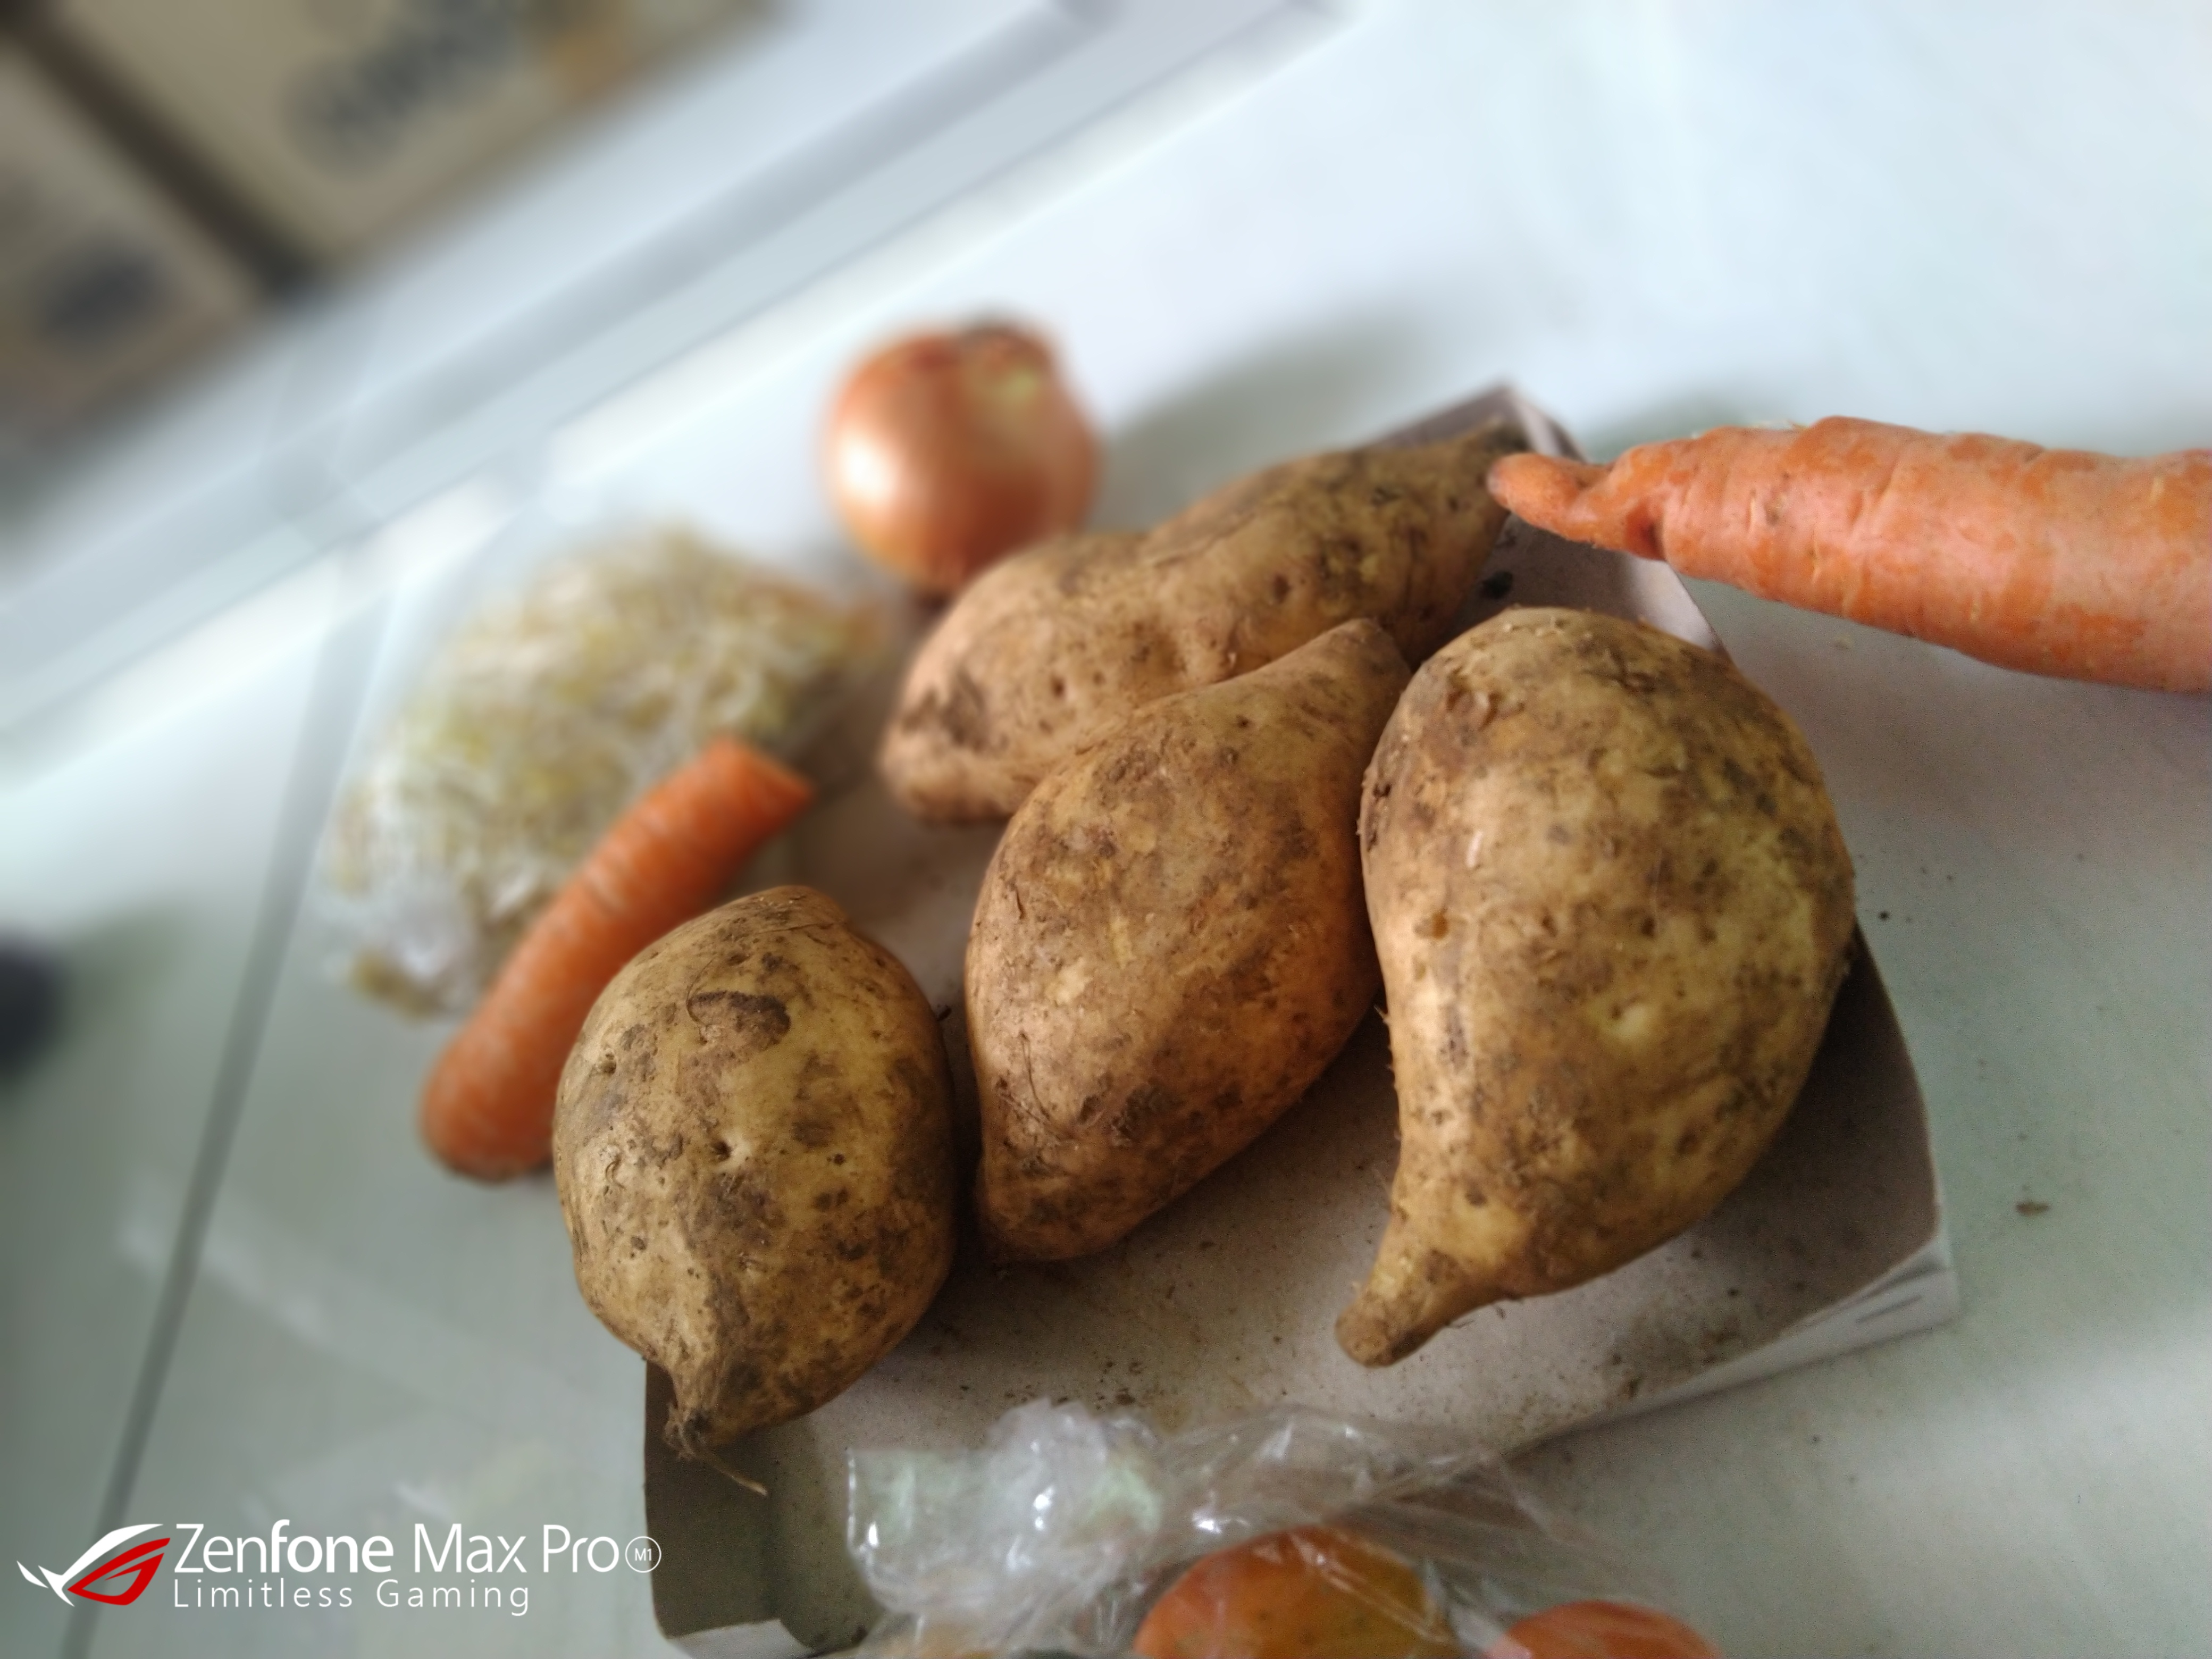ubi kuning: (1327, 608, 1881, 1396), (968, 605, 1416, 1303), (881, 423, 1517, 835), (535, 880, 956, 1481)
